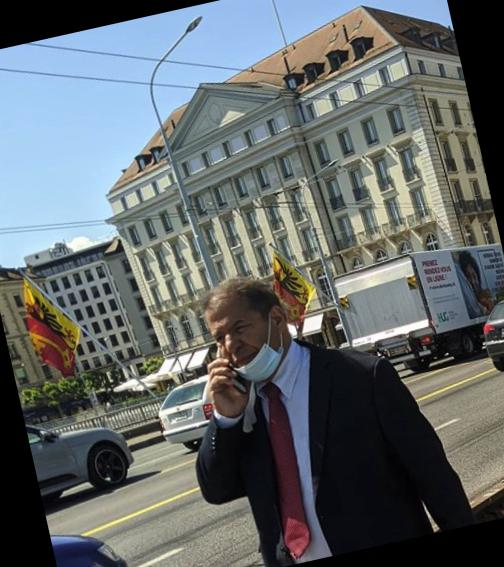mask_weared_incorrect: (206, 301, 289, 383)
